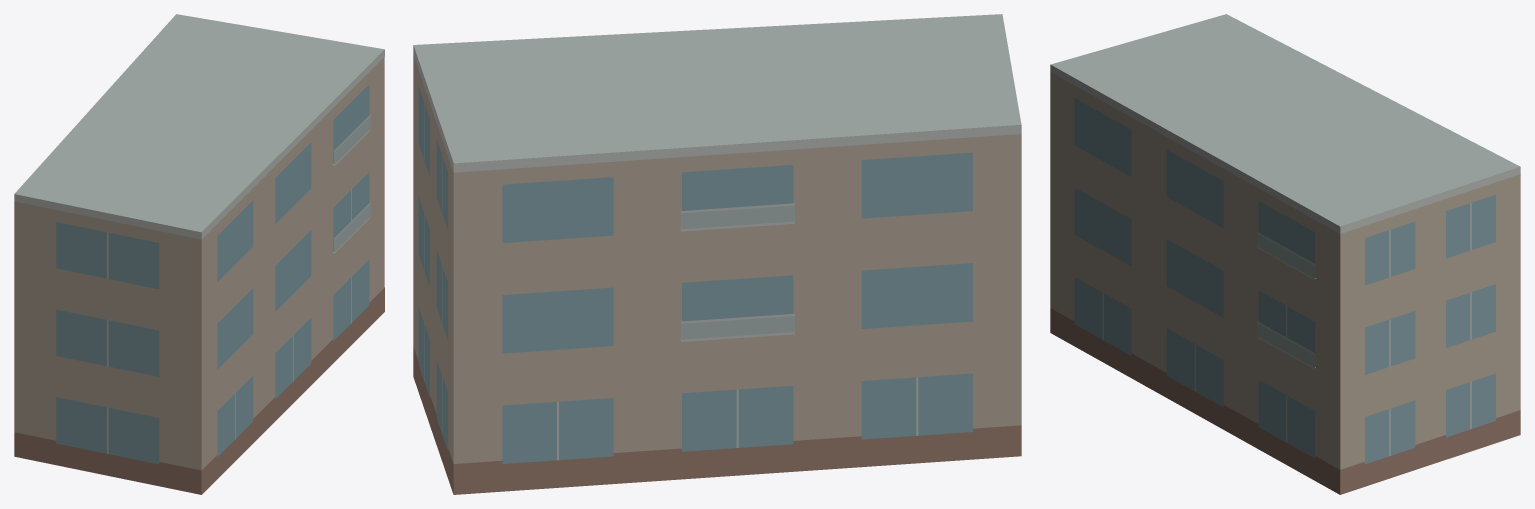
File: survey-upis-32972853.glb
3 views of the same model, side by side, from view 1: azimuth 30°, elevation 25°; view 2: azimuth 150°, elevation 25°; view 3: azimuth 270°, elevation 25° (orthographic). The views are drawn at different scales.
Parts seen in each view (by area): view 1: survey-upis-32972853.tmp; view 2: survey-upis-32972853.tmp; view 3: survey-upis-32972853.tmp.
Boxes of the visible parts, left/top/right/bottom form: survey-upis-32972853.tmp: left=14, top=14, right=384, bottom=494; survey-upis-32972853.tmp: left=413, top=14, right=1021, bottom=494; survey-upis-32972853.tmp: left=1050, top=14, right=1520, bottom=494.
Size of the model in its own units: 14.96 by 8.8 by 13.98.
